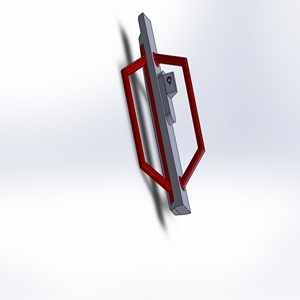submarine: (93, 1, 214, 224)
